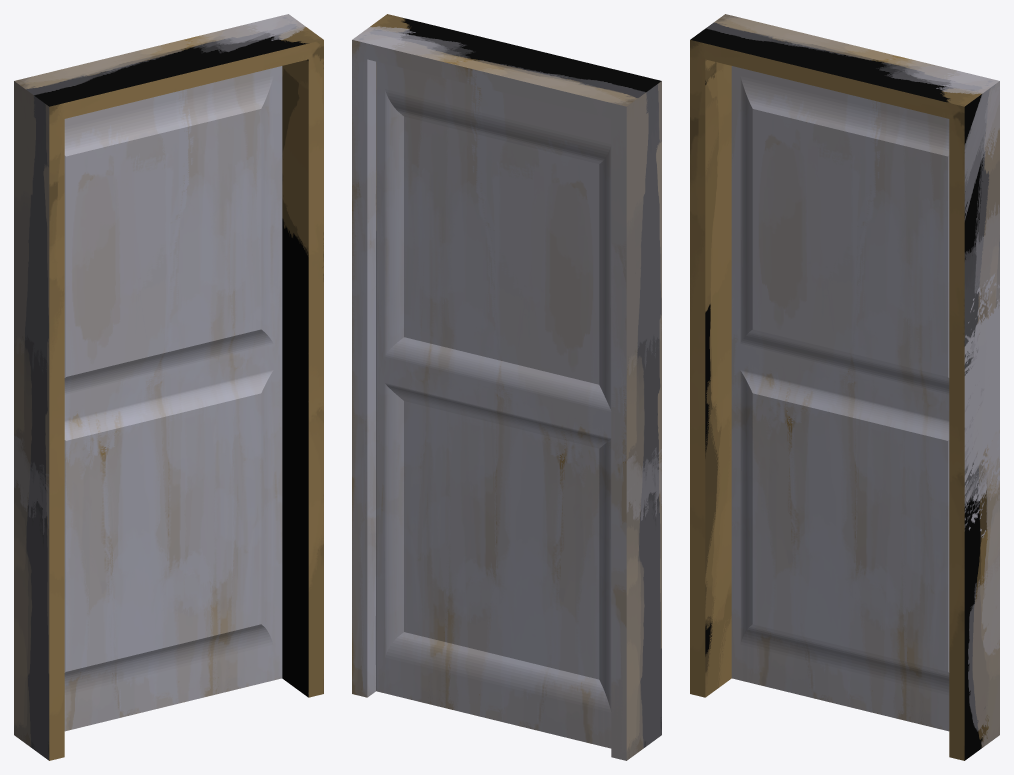
File: door.fbx
The picture shows the model from 3 angles, left to right: view 1: azimuth 30°, elevation 25°; view 2: azimuth 150°, elevation 25°; view 3: azimuth 330°, elevation 25°; orthographic projection.
Visible parts, largest first — view 1: doorframe; view 2: doorframe; view 3: doorframe.
Boxes of the visible parts, left/top/right/bottom form: doorframe: left=14, top=14, right=323, bottom=760; doorframe: left=352, top=14, right=661, bottom=760; doorframe: left=690, top=14, right=999, bottom=760.
Size of the model in its own units: 90 by 205 by 20.
